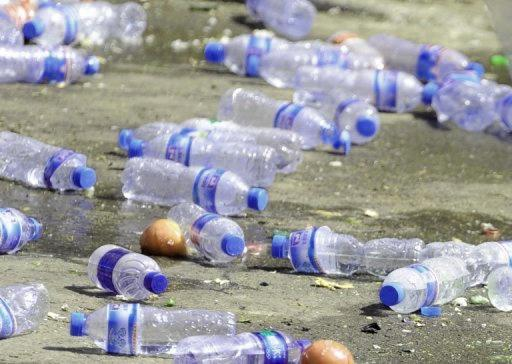Plastic: (59, 304, 238, 358), (363, 245, 478, 324), (109, 156, 267, 213), (267, 220, 425, 277), (180, 32, 349, 79), (110, 133, 286, 175), (280, 67, 446, 111), (0, 130, 108, 196), (150, 201, 262, 264), (0, 0, 151, 41), (354, 31, 493, 75), (70, 253, 175, 308), (215, 100, 342, 142), (0, 39, 106, 89), (0, 192, 59, 265), (0, 274, 59, 343)
